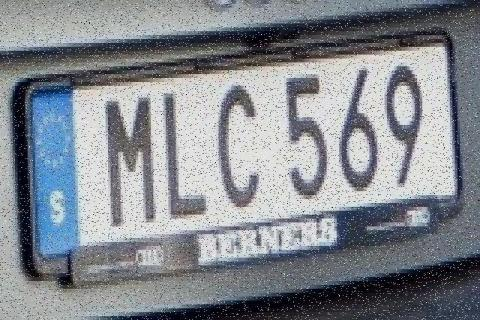LicensePlate: (11, 17, 470, 302)
